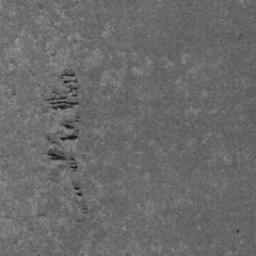Secondary rust skin: (44, 69, 87, 210)
